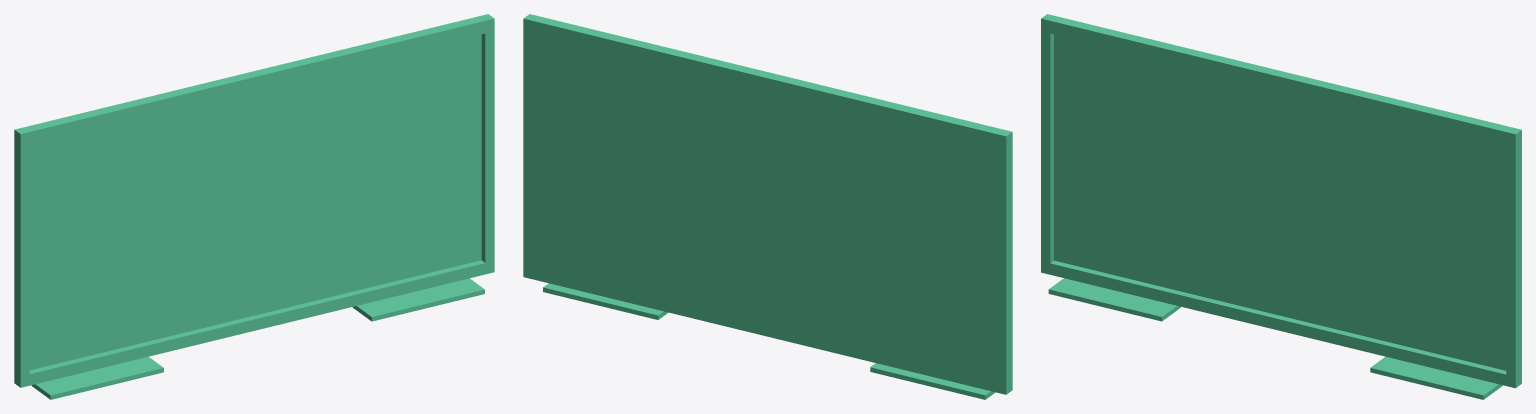
Rendered from Billboard2.fbx.
The picture shows the model from 3 angles, left to right: view 1: azimuth 30°, elevation 25°; view 2: azimuth 150°, elevation 25°; view 3: azimuth 330°, elevation 25°; orthographic projection.
Parts seen in each view (by area): view 1: Billboard2; view 2: Billboard2; view 3: Billboard2.
Part boxes in pixels (<box>): Billboard2: <box>14,14,494,399</box>; Billboard2: <box>523,14,1012,399</box>; Billboard2: <box>1041,14,1521,399</box>.
Size of the model in its own units: 762 by 403 by 53.04.
